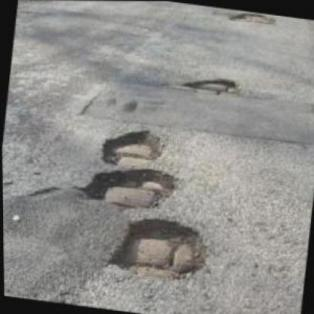Hueco: (105, 212, 211, 284), (78, 158, 179, 214), (99, 123, 167, 169), (179, 70, 244, 96)
